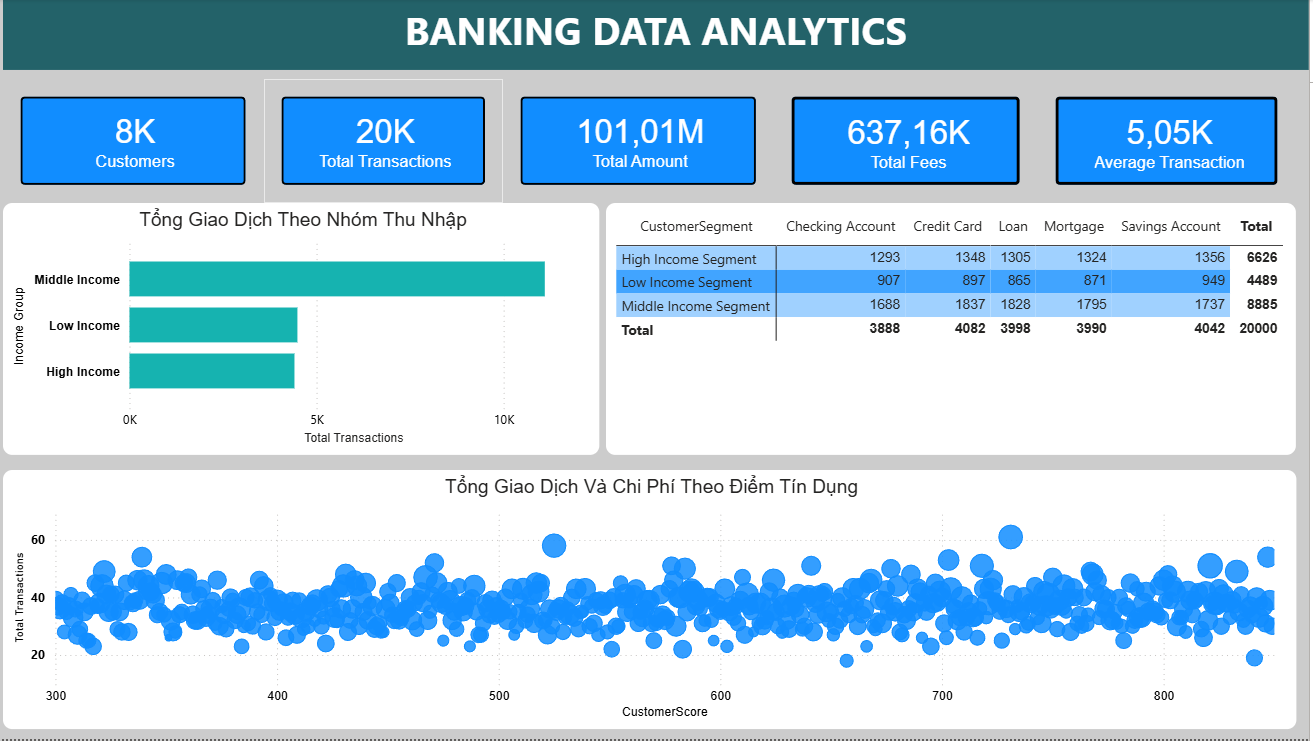

The page's visual inventory and layout, read from the dashboard file:
{"tool":"powerbi","page":{"name":"Page 1","canvas":[1280,720],"ordinal":0},"visuals":[{"type":"textbox","box":[9.7,0,1270.3,69.1],"z":0},{"type":"cardVisual","fields":{"Data":["Banking Data.Customers"]},"box":[9.7,77.8,253.9,120.6],"z":1000},{"type":"cardVisual","fields":{"Data":["Banking Data.Total Transactions"]},"box":[263.6,77.8,232.5,120.6],"z":2000},{"type":"cardVisual","fields":{"Data":["Banking Data.Total Amount"]},"box":[496,77.8,263.6,120.6],"z":3000},{"type":"cardVisual","fields":{"Data":["Banking Data.Total Fees"]},"box":[759.6,77.8,256.8,120.6],"z":4000},{"type":"cardVisual","fields":{"Data":["Banking Data.Average Transaction"]},"box":[1016.4,77.8,250.9,120.6],"z":5000},{"type":"clusteredBarChart","title":"Tổng Giao Dịch Theo Nhóm Thu Nhập","fields":{"Category":["Banking Data.Income Group"],"Y":["Banking Data.Total Transactions"]},"box":[9.7,198.4,579.7,245.1],"z":6000},{"type":"pivotTable","fields":{"Rows":["Banking Data.CustomerSegment"],"Columns":["Banking Data.ProductCategory"],"Values":["Banking Data.Total Transactions"]},"box":[596.2,198.4,671.1,245.1],"z":7000},{"type":"scatterChart","title":"Tổng Giao Dịch Và Chi Phí Theo Điểm Tín Dụng","fields":{"X":["Banking Data.CustomerScore"],"Y":["Banking Data.Total Transactions"],"Size":["Banking Data.Total Fees"]},"box":[9.7,458.1,1257.6,251.9],"z":8000}]}

Visuals, with their boxes in screenshot pixels (x1, y1, x2, y2), scaled from the page's 1280x720 canvas onto the 1313x741 screenshot:
textbox: 10:0:1312:71
cardVisual - Banking Data.Customers: 10:80:270:204
cardVisual - Banking Data.Total Transactions: 270:80:509:204
cardVisual - Banking Data.Total Amount: 509:80:779:204
cardVisual - Banking Data.Total Fees: 779:80:1043:204
cardVisual - Banking Data.Average Transaction: 1043:80:1300:204
"Tổng Giao Dịch Theo Nhóm Thu Nhập" clusteredBarChart: 10:204:605:456
pivotTable - Banking Data.CustomerSegment x Banking Data.ProductCategory: 612:204:1300:456
"Tổng Giao Dịch Và Chi Phí Theo Điểm Tín Dụng" scatterChart: 10:471:1300:731
